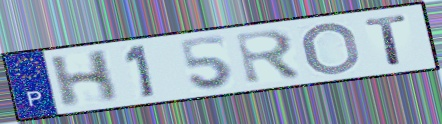1: (121, 42, 158, 100)
5: (177, 32, 237, 93)
H: (47, 47, 121, 110)
O: (301, 21, 364, 77)
R: (232, 27, 305, 87)
T: (362, 13, 411, 68)
